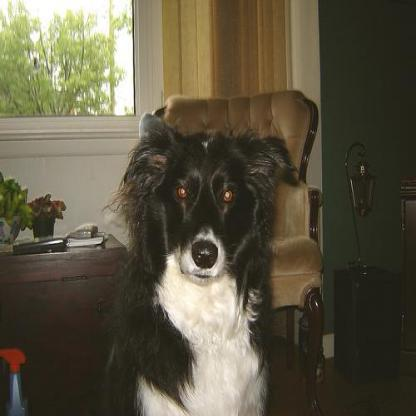Border_collie: (97, 119, 296, 412)
